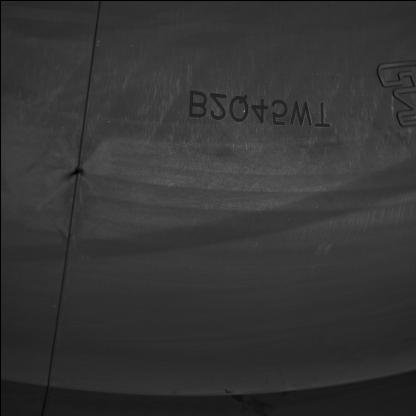ocr: (186, 89, 331, 130)
